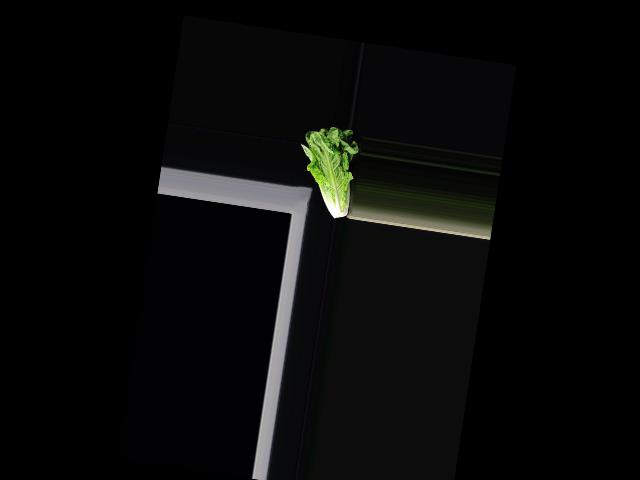lettuce: (291, 121, 362, 221)
